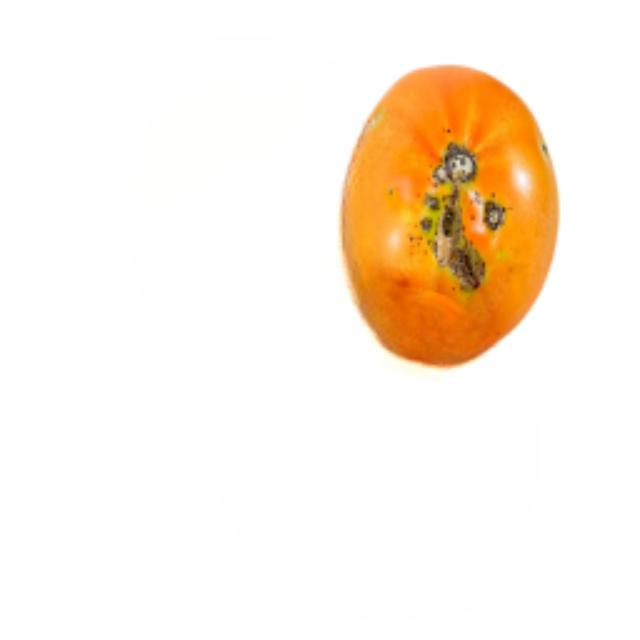defect: (334, 54, 560, 377)
